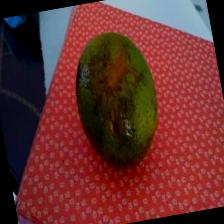Orange Rotten: (57, 20, 179, 182)
